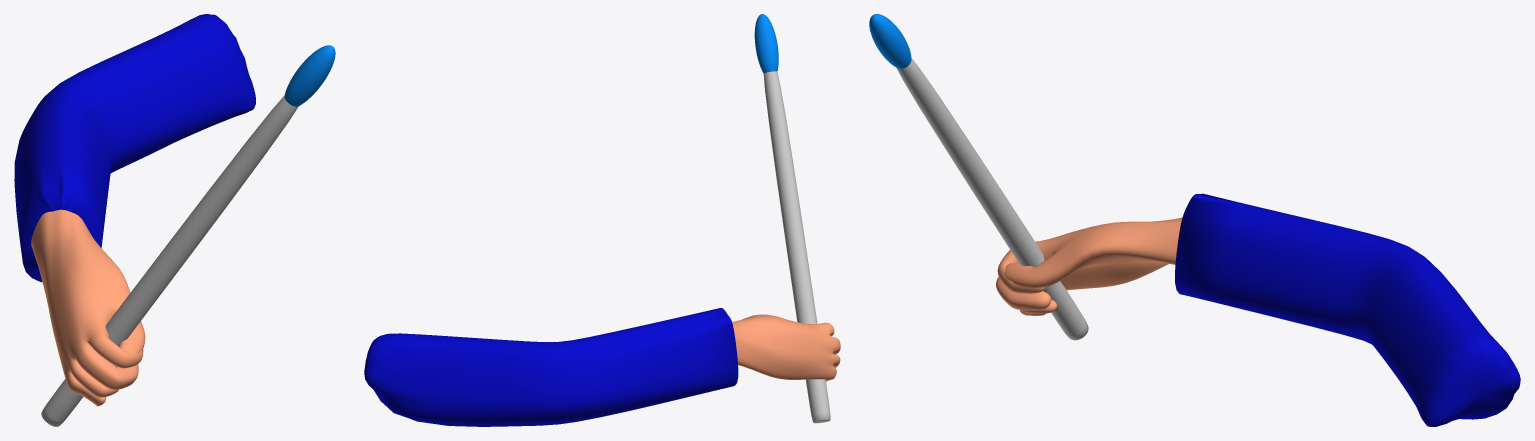
File: newestArm2obj.obj
3 views of the same model, side by side, from view 1: azimuth 30°, elevation 25°; view 2: azimuth 150°, elevation 25°; view 3: azimuth 270°, elevation 25° (orthographic). The views are drawn at different scales.
Parts seen in each view (by area): view 1: Sphere.001_Sphere.002, Sphere_Sphere.001, Circle.001; view 2: Sphere.001_Sphere.002, Circle.001, Sphere_Sphere.001; view 3: Sphere.001_Sphere.002, Sphere_Sphere.001, Circle.001.
Boxes of the visible parts, x1,y1,x2,y2 form: Sphere.001_Sphere.002: (14,14,255,282); Sphere_Sphere.001: (31,209,145,406); Circle.001: (41,45,335,426); Sphere.001_Sphere.002: (364,308,738,426); Circle.001: (754,14,830,423); Sphere_Sphere.001: (732,314,840,381); Sphere.001_Sphere.002: (1175,193,1520,426); Sphere_Sphere.001: (996,217,1182,315); Circle.001: (869,14,1088,340).
Size of the model in its own units: 4.14 by 4.13 by 5.96.
